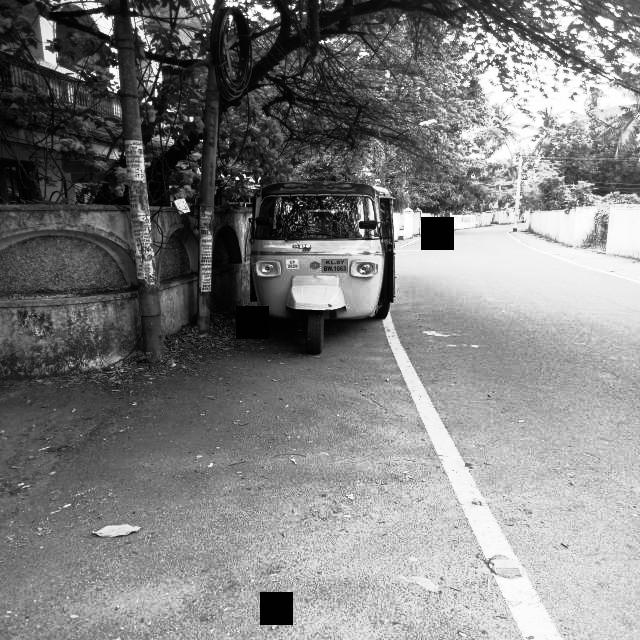Auto-Rickshaw: (244, 173, 407, 363)
